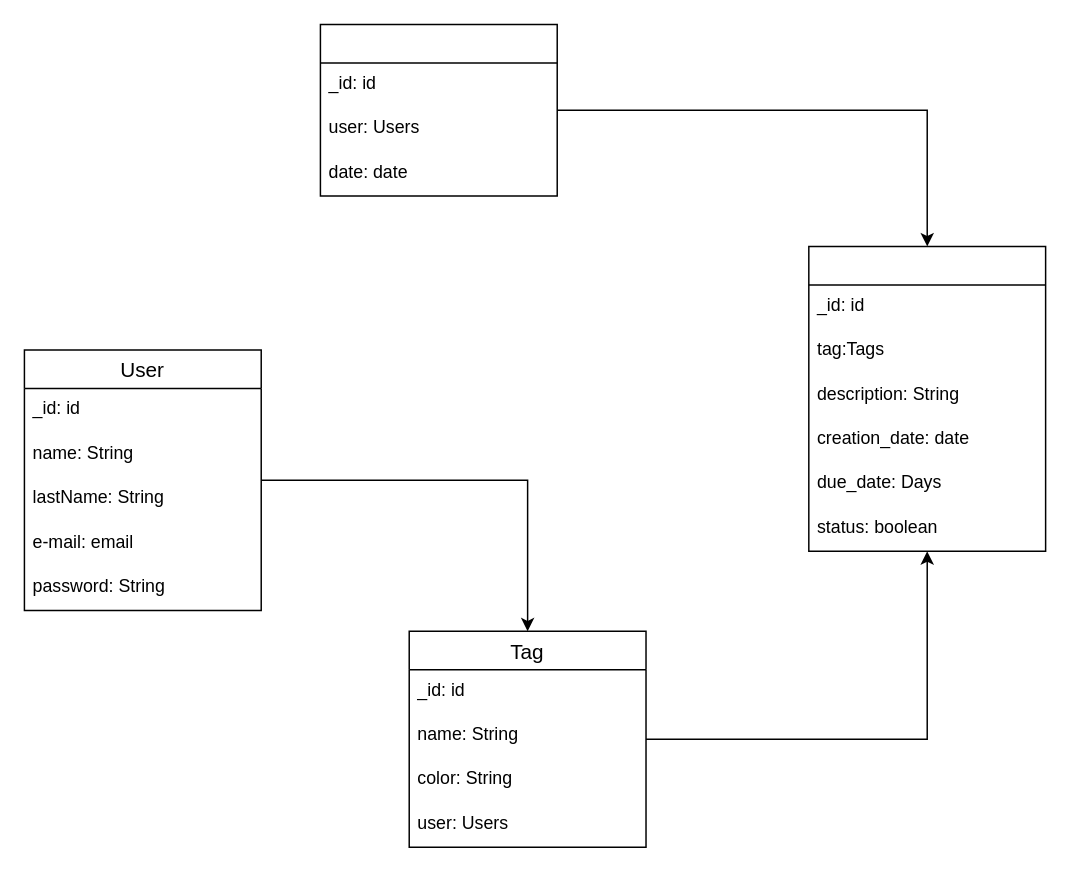
The diagram is 1070 pixels wide and 872 high, and some of its shapes have lost their labels. The box of each missing label's shape, as (x1, y1, x2, y2) in pixels:
Day: (319, 23, 557, 196)
Task: (807, 245, 1046, 551)
